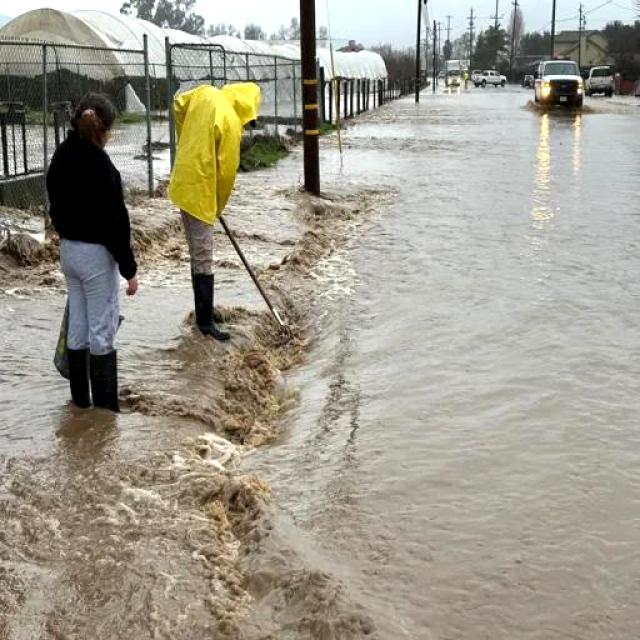civilian: (26, 84, 157, 451), (148, 54, 264, 372)
